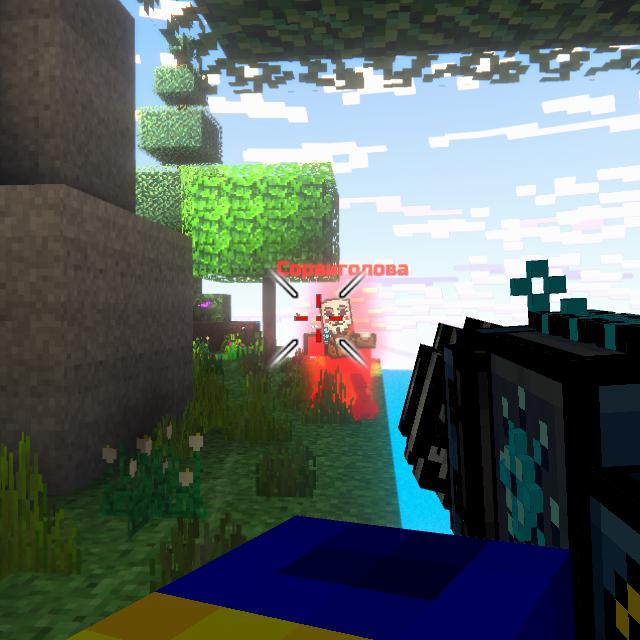Enemy: (306, 296, 379, 414)
